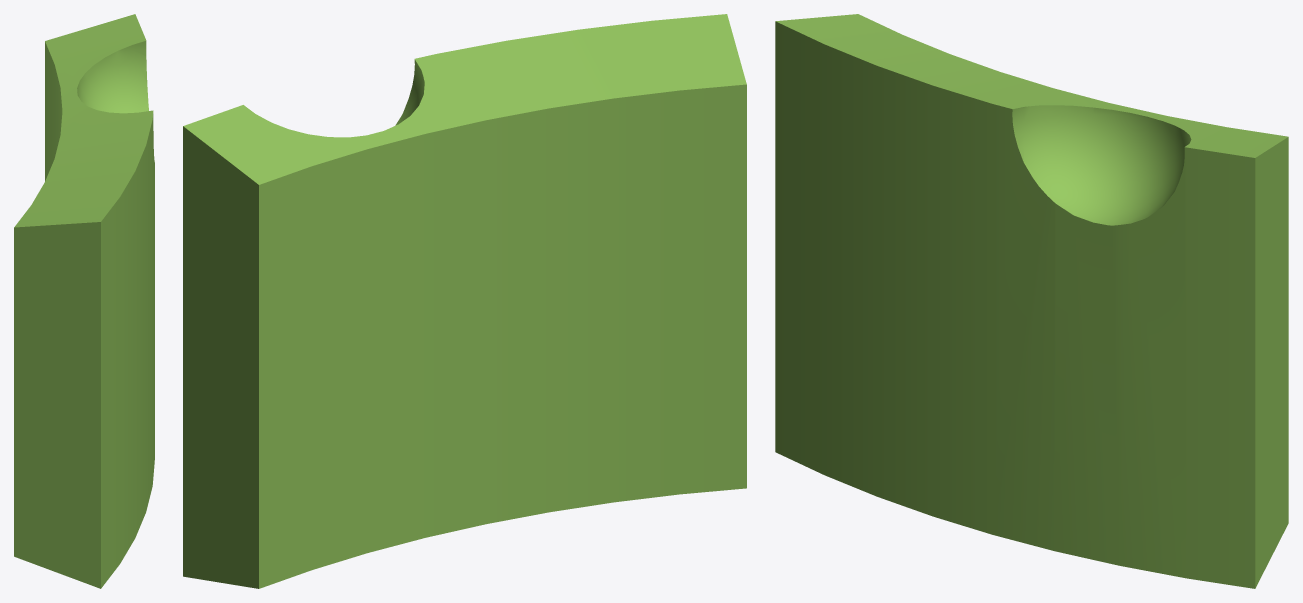
The model's file is CircleBlock19.obj.
3 renders of one model, left to right at view 1: azimuth 30°, elevation 25°; view 2: azimuth 150°, elevation 25°; view 3: azimuth 270°, elevation 25°, orthographic. The views are drawn at different scales.
Parts seen in each view (by area): view 1: CircleBlock19; view 2: CircleBlock19; view 3: CircleBlock19.
Boxes of the visible parts, x1,y1,x2,y2 form: CircleBlock19: [14, 14, 154, 588]; CircleBlock19: [183, 14, 746, 588]; CircleBlock19: [775, 14, 1288, 588].
Bounding box in the file's own units: 4.25 × 5.14 × 5.55.
